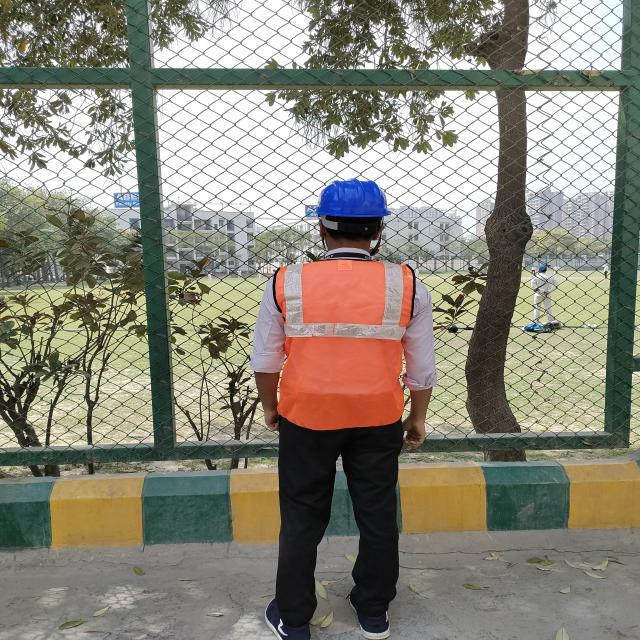safe: (251, 178, 436, 640)
